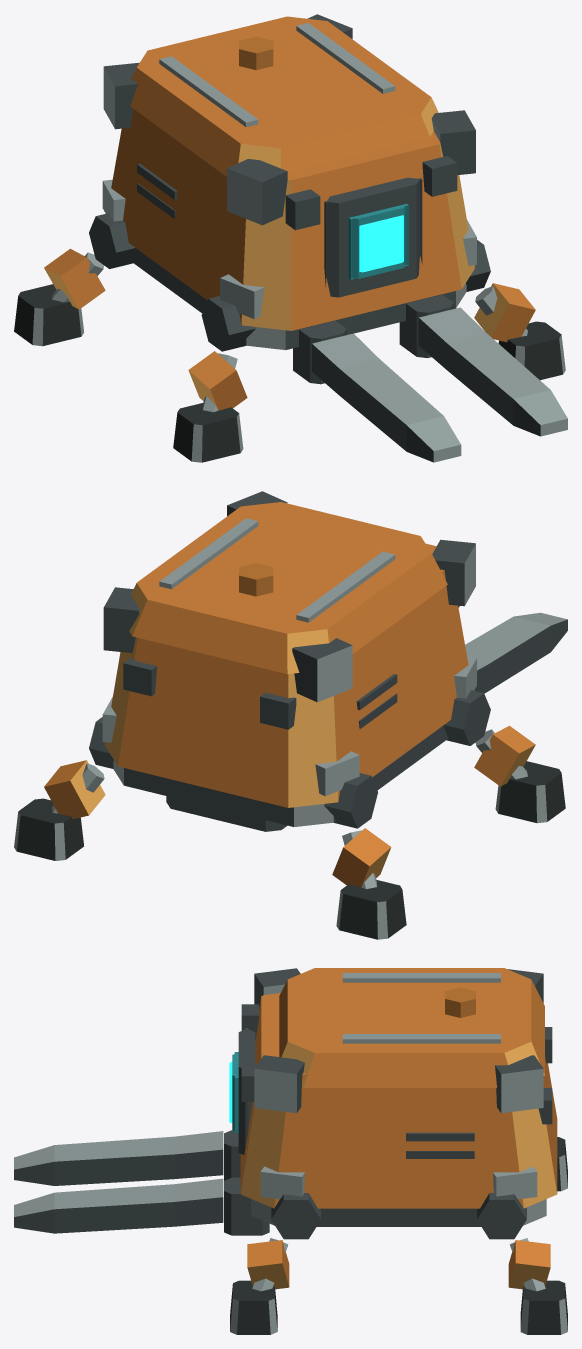
Rendered from wsc-actor-002-pallet-jack-study.glb.
3 renders of one model, top to bottom at view 1: azimuth 30°, elevation 25°; view 2: azimuth 150°, elevation 25°; view 3: azimuth 270°, elevation 25°, orthographic. The views are drawn at different scales.
Visible parts, largest first — view 1: Canted main enclosure, Removable armored lid, Tapered steel fork.001, Tapered steel fork, Face plate, Gantry chassis sill, Caster saddle, Four cast corner collars, Caster saddle.001, Caster saddle.002, Single square lens, Canted orange sleeve (+17 smaller); view 2: Canted main enclosure, Removable armored lid, Gantry chassis sill, Tapered steel fork, Caster saddle.001, Caster saddle.003, Caster saddle, Four cast corner collars.001, Canted orange sleeve.001, Canted orange sleeve.003, Four cast corner collars, Canted orange sleeve (+12 smaller); view 3: Canted main enclosure, Removable armored lid, Tapered steel fork.001, Tapered steel fork, Gantry chassis sill, Four cast corner collars.002, Four cast corner collars.003, Caster saddle.003, Caster saddle.002, Transverse hinge.002, Transverse hinge.003, Canted orange sleeve.002 (+16 smaller).
Part boxes in pixels (x1,y1,x2,y2): Canted main enclosure: (111,109,474,330); Removable armored lid: (130,16,438,176); Tapered steel fork.001: (418,307,567,436); Tapered steel fork: (312,333,461,462); Face plate: (324,177,422,297); Gantry chassis sill: (131,249,466,350); Caster saddle: (173,403,243,462); Four cast corner collars: (227,159,287,225); Caster saddle.001: (14,284,84,346); Caster saddle.002: (498,321,565,380); Single square lens: (359,215,403,272); Canted orange sleeve: (188,351,247,410); Canted main enclosure: (104,543,468,807); Removable armored lid: (129,502,447,674); Gantry chassis sill: (113,726,448,826); Tapered steel fork: (465,612,567,693); Caster saddle.001: (336,880,406,939); Caster saddle.003: (14,798,83,860); Caster saddle: (495,761,565,823); Four cast corner collars.001: (292,638,352,702); Canted orange sleeve.001: (332,828,391,887); Canted orange sleeve.003: (44,760,105,819); Four cast corner collars: (432,539,475,606); Canted orange sleeve: (474,725,535,786); Canted main enclosure: (240,993,557,1208); Removable armored lid: (279,968,544,1087); Tapered steel fork.001: (14,1178,223,1233); Tapered steel fork: (14,1131,223,1185); Gantry chassis sill: (251,1199,546,1226); Four cast corner collars.002: (254,1055,304,1113); Four cast corner collars.003: (495,1055,543,1113); Caster saddle.003: (520,1280,567,1334); Caster saddle.002: (230,1280,277,1334); Transverse hinge.002: (271,1193,320,1239); Transverse hinge.003: (477,1193,526,1239); Canted orange sleeve.002: (247,1240,289,1289).
Bounding box in the file's own units: 2.24 × 1.61 × 3.15.
